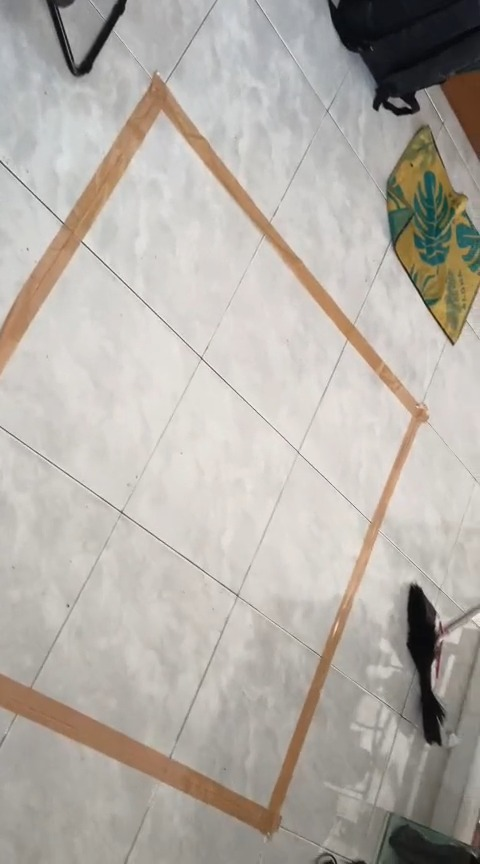floor marking: (2, 75, 427, 835)
